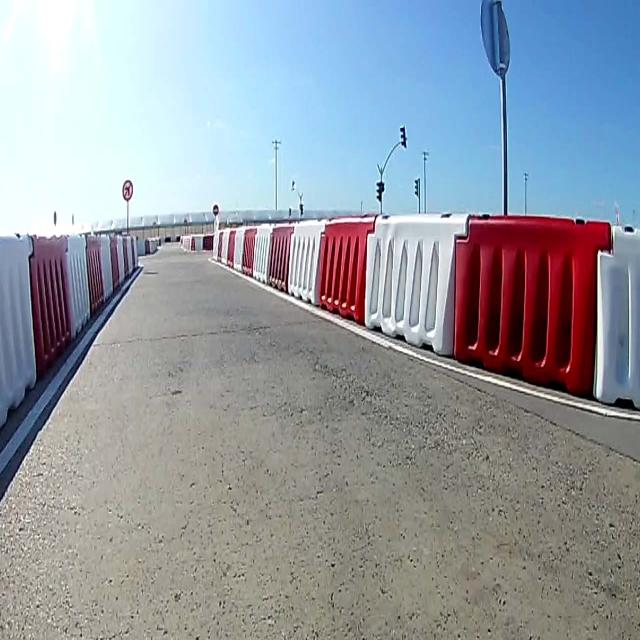soladonulmez: (120, 177, 134, 199)
